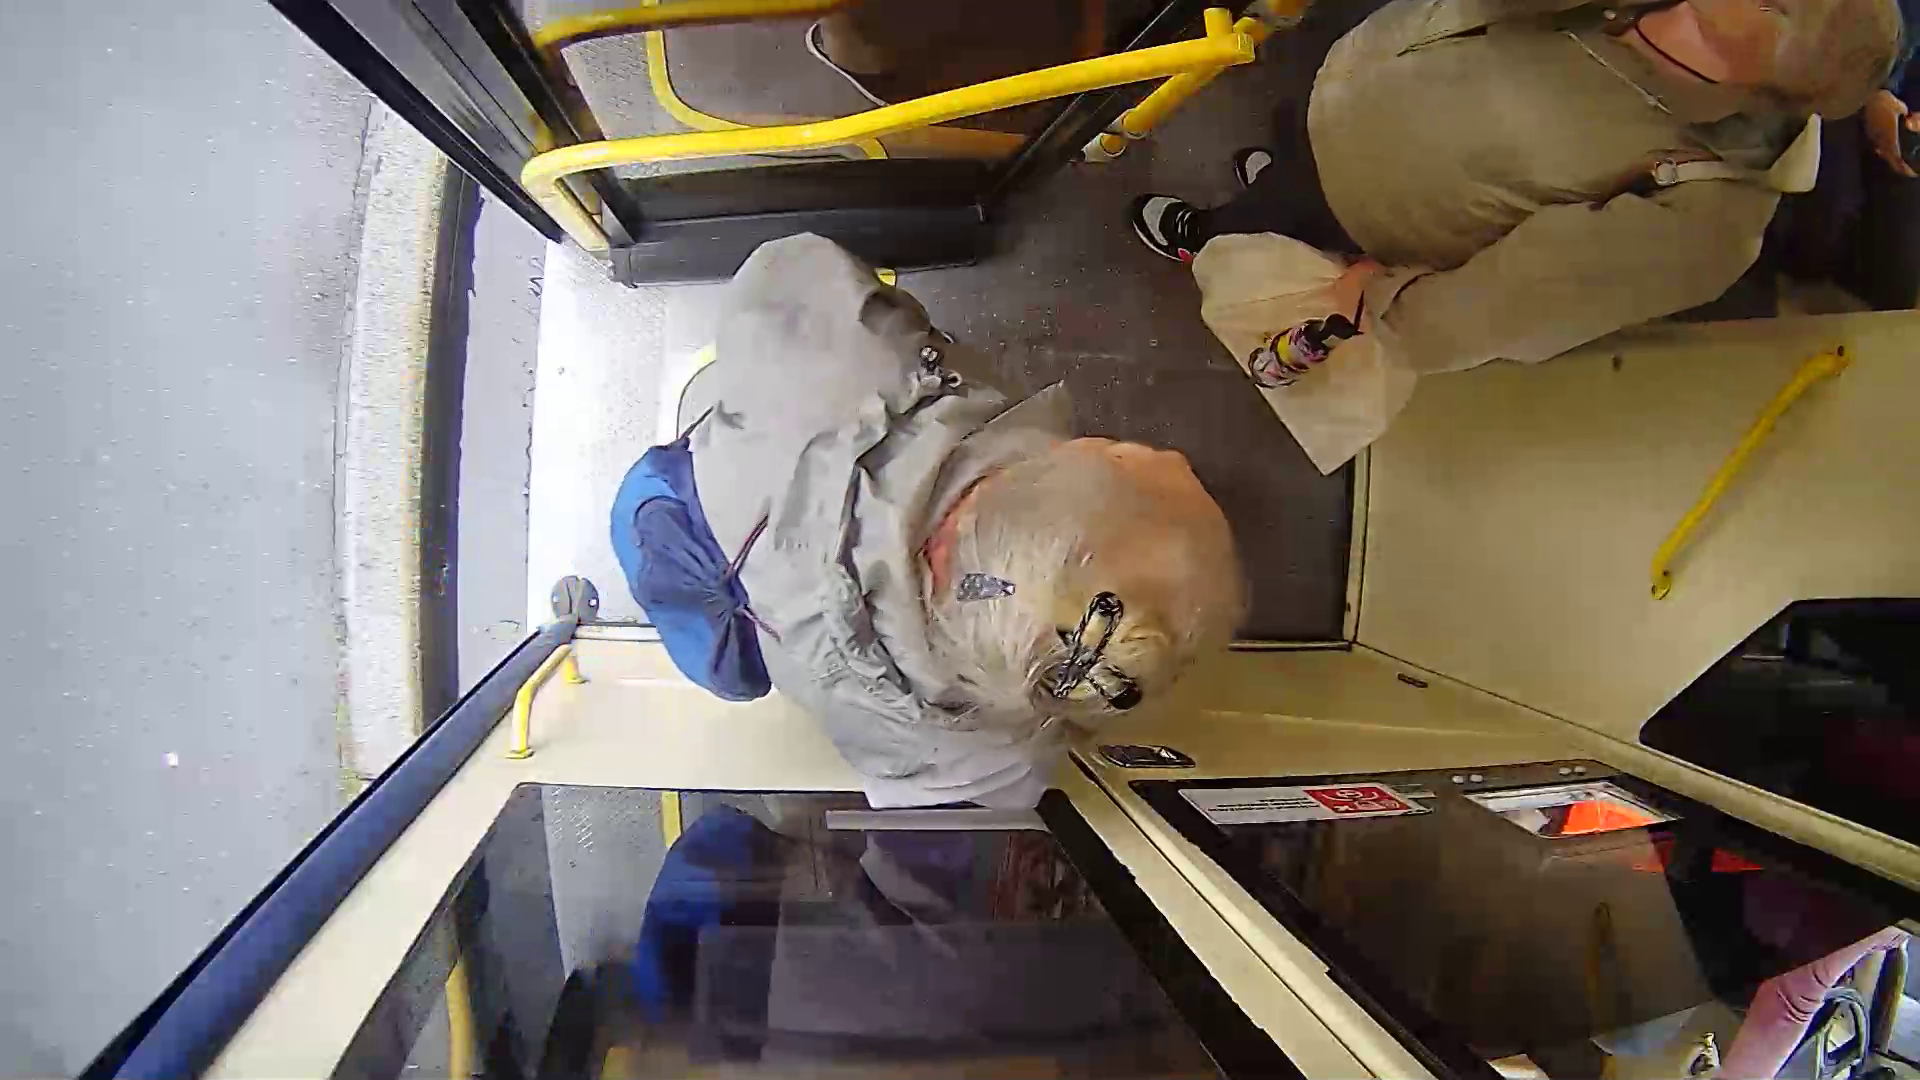person: (663, 278, 1188, 770)
